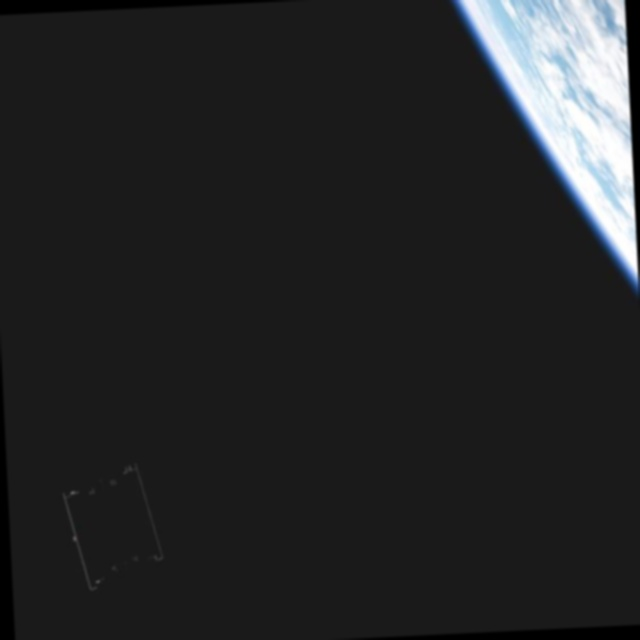medium_debris: (53, 462, 169, 595)
